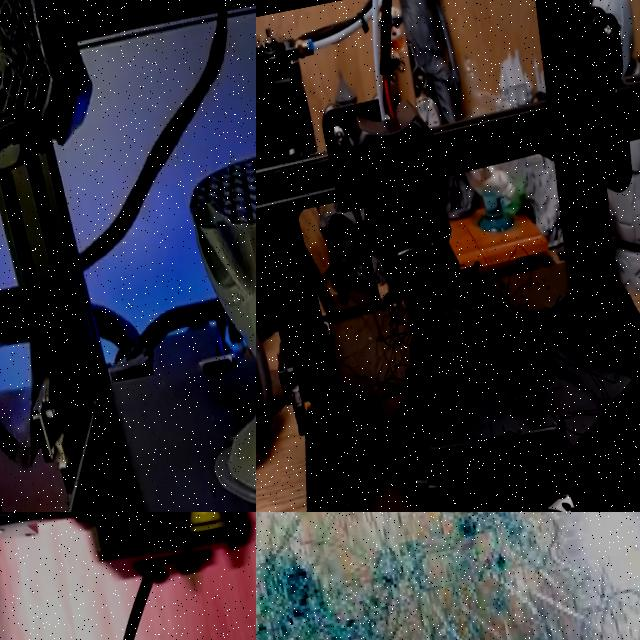spaghetti: (256, 512, 640, 640), (342, 259, 582, 420)
